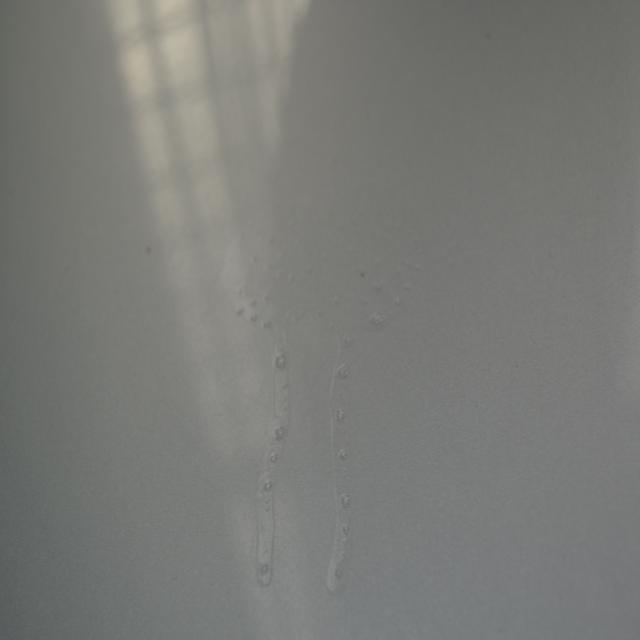dirt: (144, 242, 153, 259)
runs: (210, 220, 435, 597)
